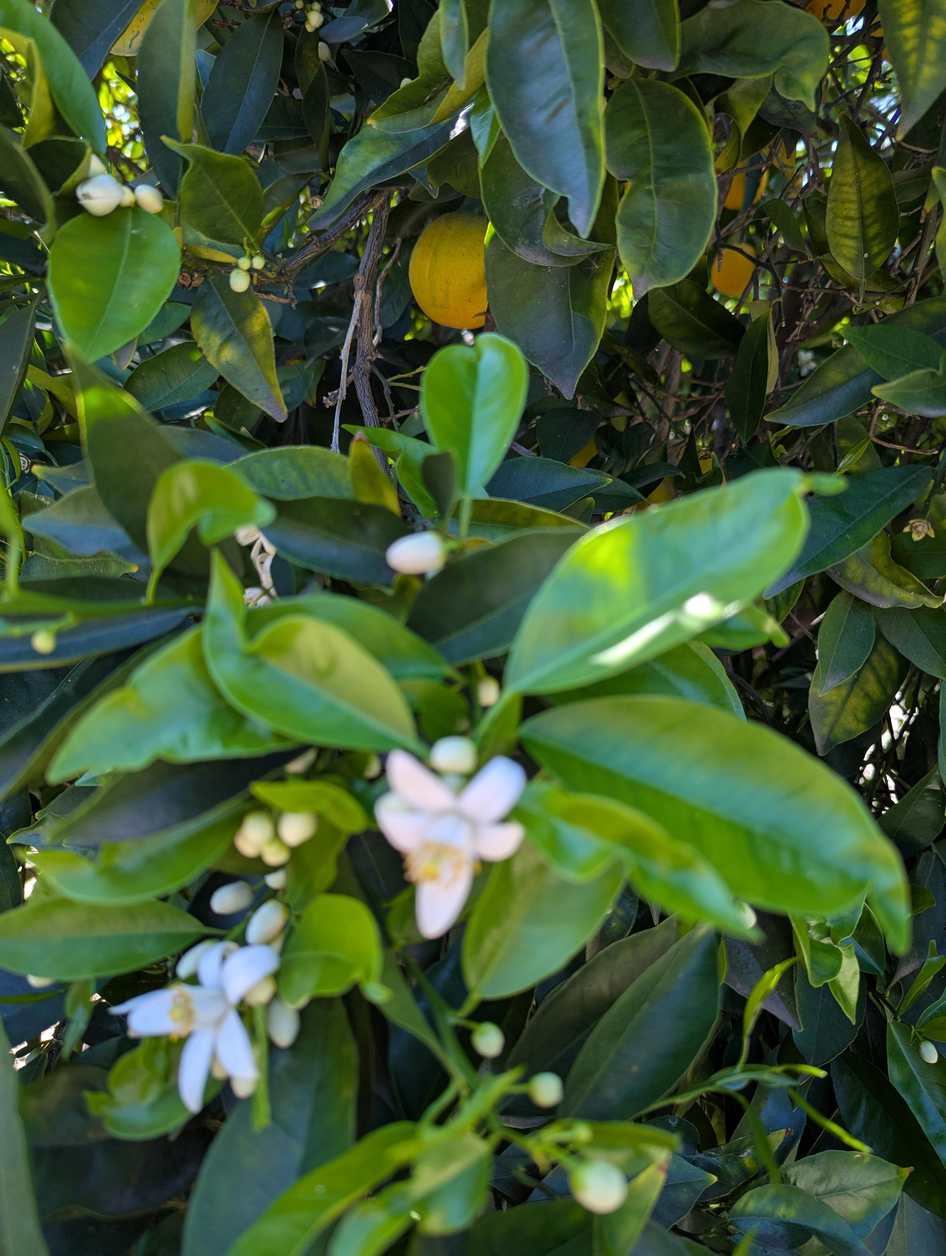orange: (409, 212, 488, 329), (711, 244, 756, 297), (724, 159, 767, 210), (806, 0, 865, 27), (869, 15, 892, 64)
